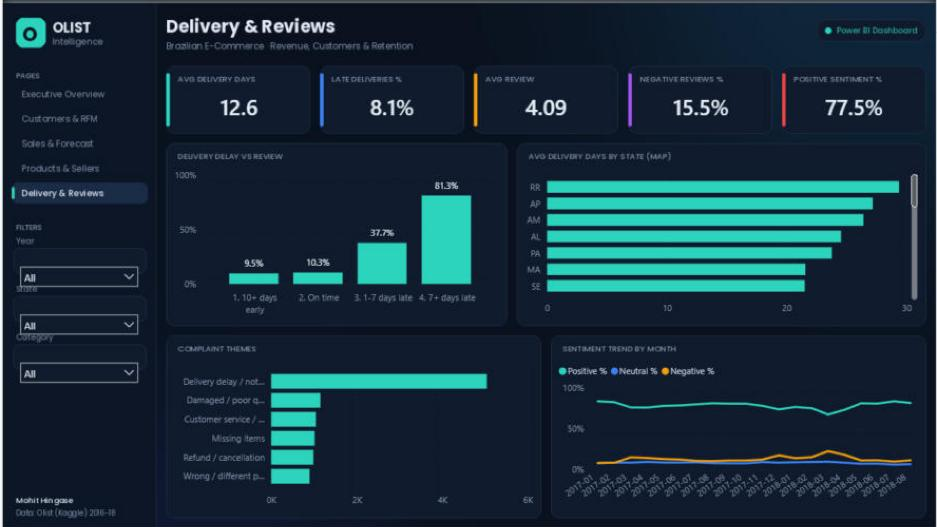

The page's visual inventory and layout, read from the dashboard file:
{"tool":"powerbi","page":{"name":"Delivery & Reviews","canvas":[1280,720],"ordinal":4},"visuals":[{"type":"card","fields":{"Values":["fact_orders.Avg Delivery Days"]},"box":[234,112,179,62],"z":1000},{"type":"card","fields":{"Values":["fact_orders.Late Delivery %"]},"box":[445,112,179,62],"z":1000},{"type":"card","fields":{"Values":["fact_orders.Avg Review"]},"box":[656,112,179,62],"z":1000},{"type":"card","fields":{"Values":["fact_orders.Negative Review %"]},"box":[868,112,179,62],"z":1000},{"type":"card","fields":{"Values":["review_sentiment.Positive Sentiment %"]},"box":[1079,112,179,62],"z":1000},{"type":"columnChart","fields":{"Category":["fact_orders.Delivery Bucket"],"Y":["fact_orders.Bucket Negative %"]},"box":[230,222,455,214],"z":1000},{"type":"barChart","fields":{"Category":["agg_state.state"],"Y":["agg_state.State Delivery Days"]},"box":[711,222,549,214],"z":1000},{"type":"barChart","fields":{"Category":["agg_complaint_themes.theme"],"Y":["agg_complaint_themes.Total Complaints"]},"box":[230,486,502,214],"z":1000},{"type":"lineChart","fields":{"Category":["agg_sentiment_month.review_month"],"Y":["agg_sentiment_month.Positive %","agg_sentiment_month.Neutral %","agg_sentiment_month.Negative %"]},"box":[758,486,502,214],"z":1000},{"type":"slicer","fields":{"Values":["dim_date.year"]},"box":[14,351,182,40],"z":3000},{"type":"slicer","fields":{"Values":["dim_customer.state"]},"box":[14,417,182,40],"z":3000},{"type":"slicer","fields":{"Values":["dim_product.category"]},"box":[14,483,182,40],"z":3000},{"type":"actionButton","box":[12,110,186,28],"z":4000},{"type":"actionButton","box":[12,144,186,28],"z":4001},{"type":"actionButton","box":[12,178,186,28],"z":4002},{"type":"actionButton","box":[12,212,186,28],"z":4003}]}

Visuals, with their boxes on the page's 1280x720 design canvas (x1, y1, x2, y2). These are canvas units, not pixel positions in the 937x527 screenshot, which may show the page scaled, cropped or inside an application window:
card - fact_orders.Avg Delivery Days: 234 112 413 174
card - fact_orders.Late Delivery %: 445 112 624 174
card - fact_orders.Avg Review: 656 112 835 174
card - fact_orders.Negative Review %: 868 112 1047 174
card - review_sentiment.Positive Sentiment %: 1079 112 1258 174
columnChart - fact_orders.Delivery Bucket x fact_orders.Bucket Negative %: 230 222 685 436
barChart - agg_state.state x agg_state.State Delivery Days: 711 222 1260 436
barChart - agg_complaint_themes.theme x agg_complaint_themes.Total Complaints: 230 486 732 700
lineChart - agg_sentiment_month.review_month x agg_sentiment_month.Positive %: 758 486 1260 700
slicer - dim_date.year: 14 351 196 391
slicer - dim_customer.state: 14 417 196 457
slicer - dim_product.category: 14 483 196 523
actionButton: 12 110 198 138
actionButton: 12 144 198 172
actionButton: 12 178 198 206
actionButton: 12 212 198 240
